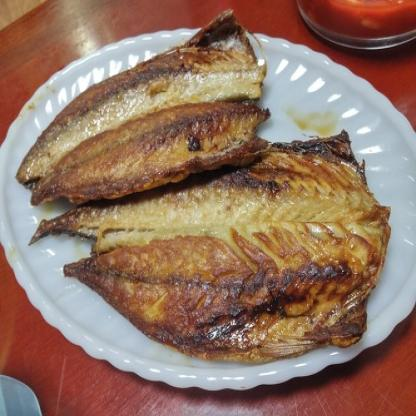Peixe: (28, 107, 383, 390), (11, 1, 284, 237)
